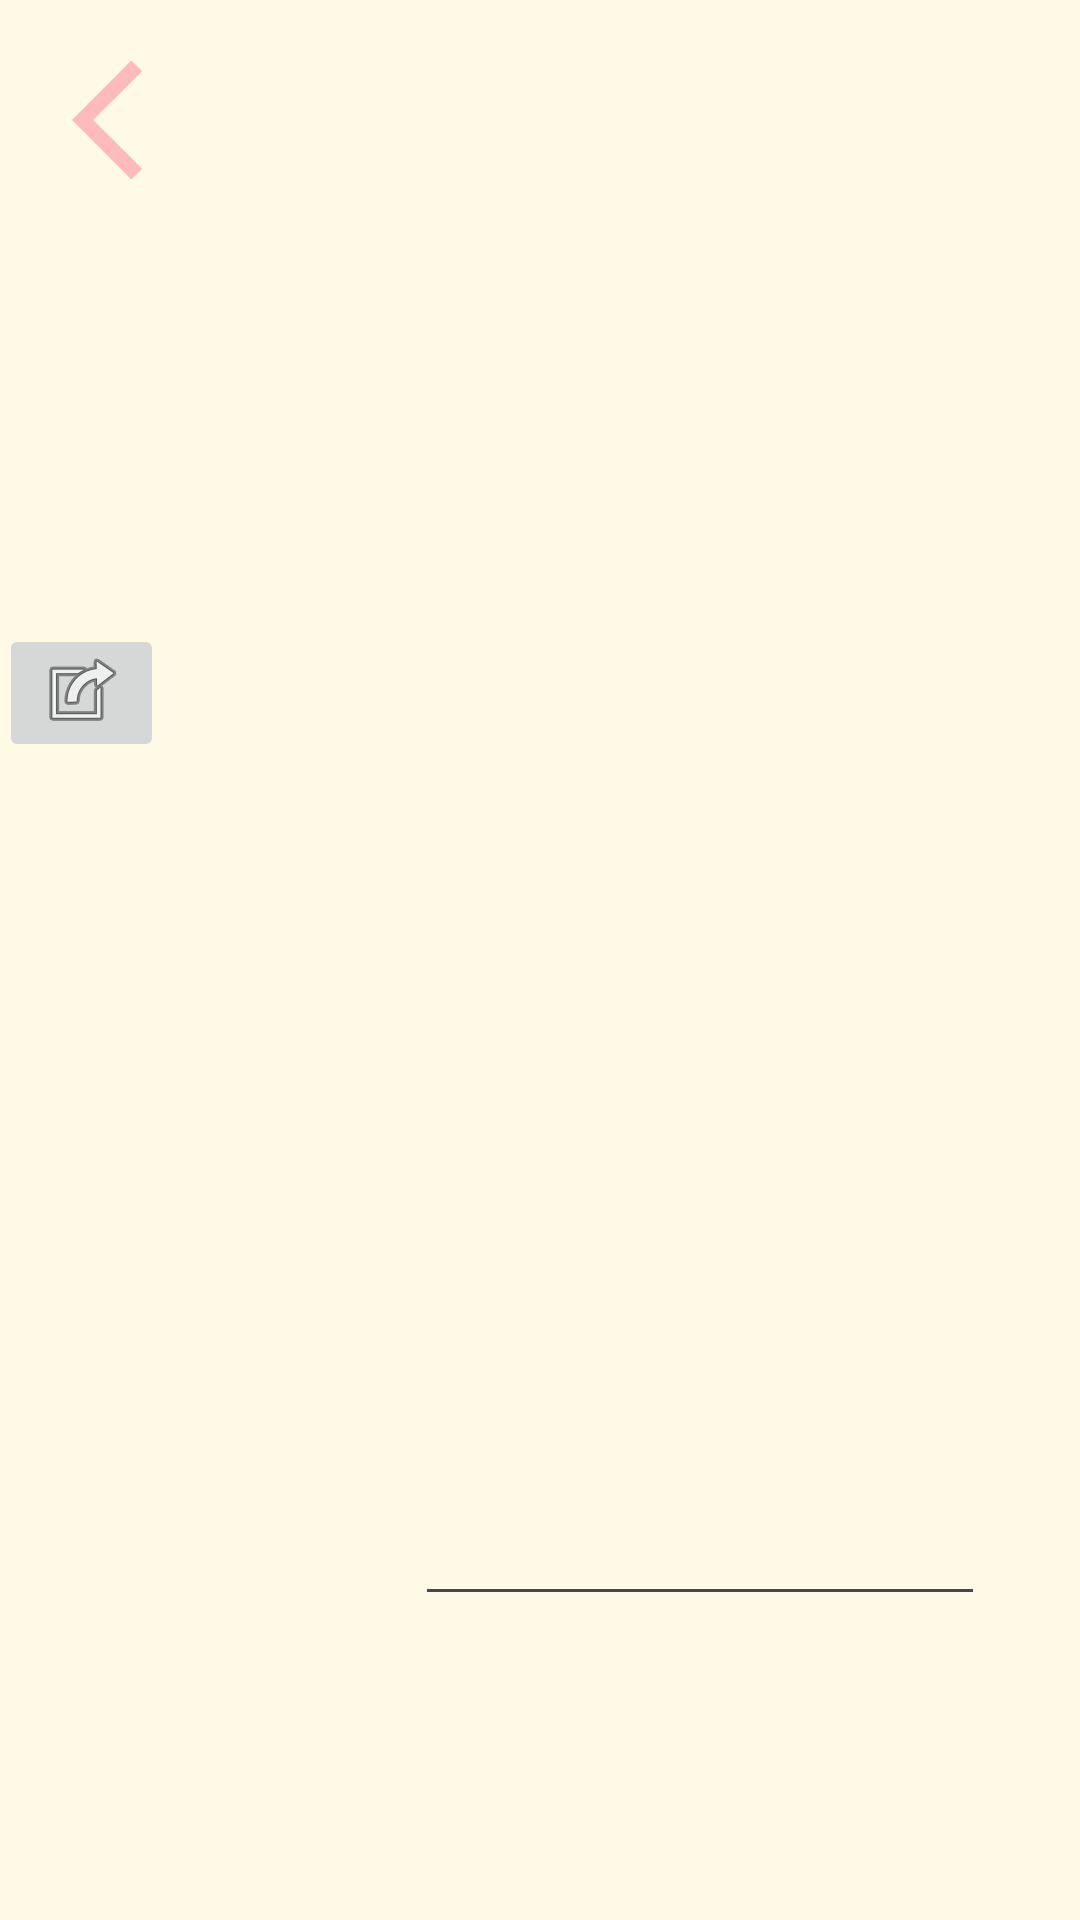

Point at icon controls on the screen. Image size 1080 × 1920, points as [x,y].
back: [107,120]
set as: [81,693]
